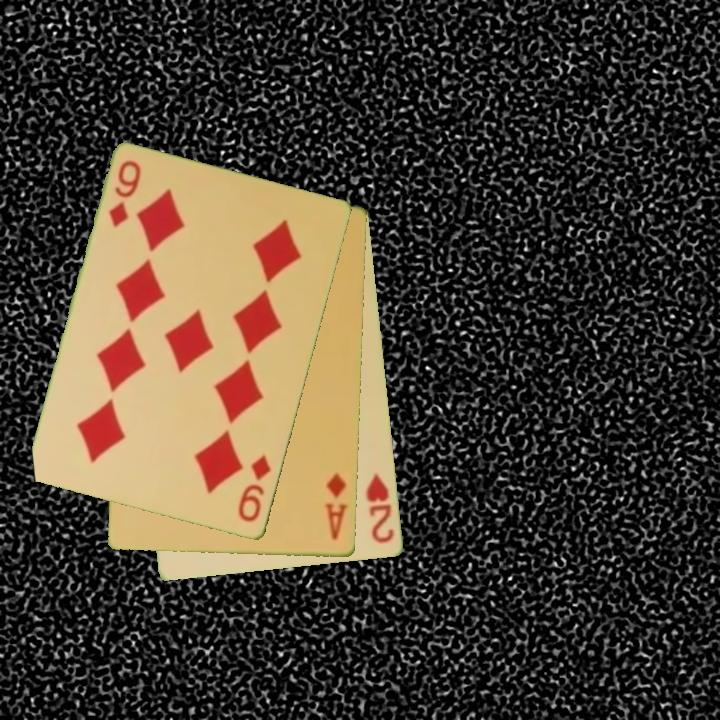2h: (363, 470, 398, 547)
9d: (235, 451, 275, 525), (105, 157, 145, 231)
Ad: (321, 470, 351, 543)
